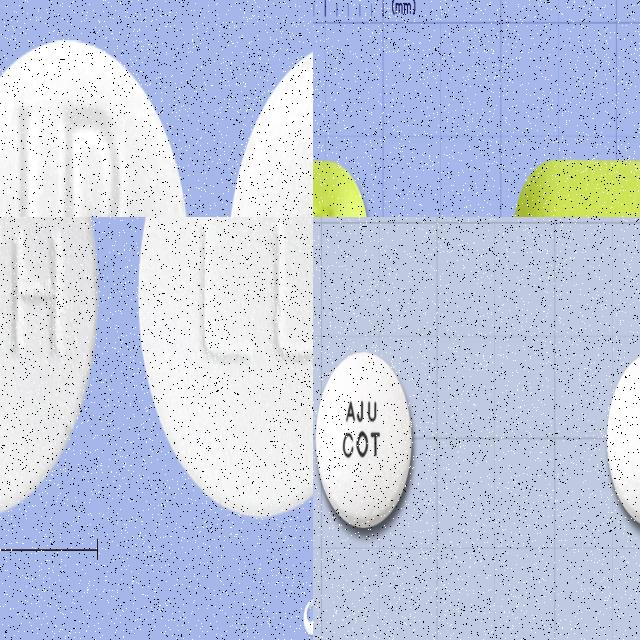Besivo: (0, 35, 192, 217), (225, 35, 313, 217)
Clycin Tab-500mg: (514, 158, 640, 217)
Croxacin: (315, 351, 413, 528), (605, 349, 640, 529)
Cyfloc: (135, 217, 313, 518), (0, 217, 99, 520)
